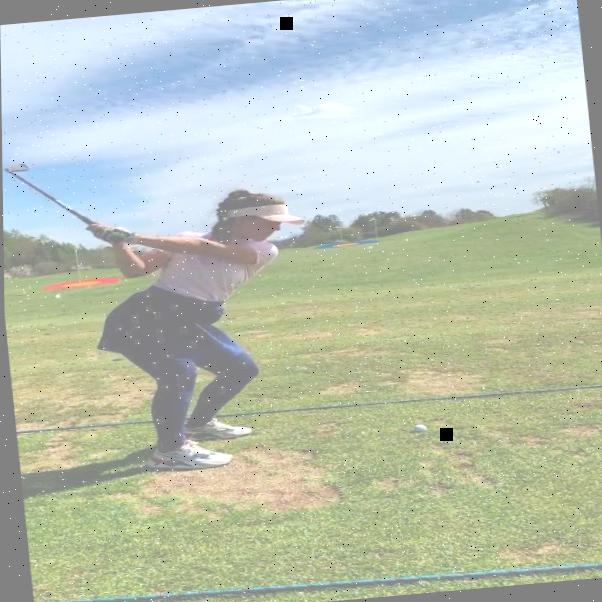ClubHead: (2, 161, 31, 172)
GolfBall: (410, 423, 428, 432)
